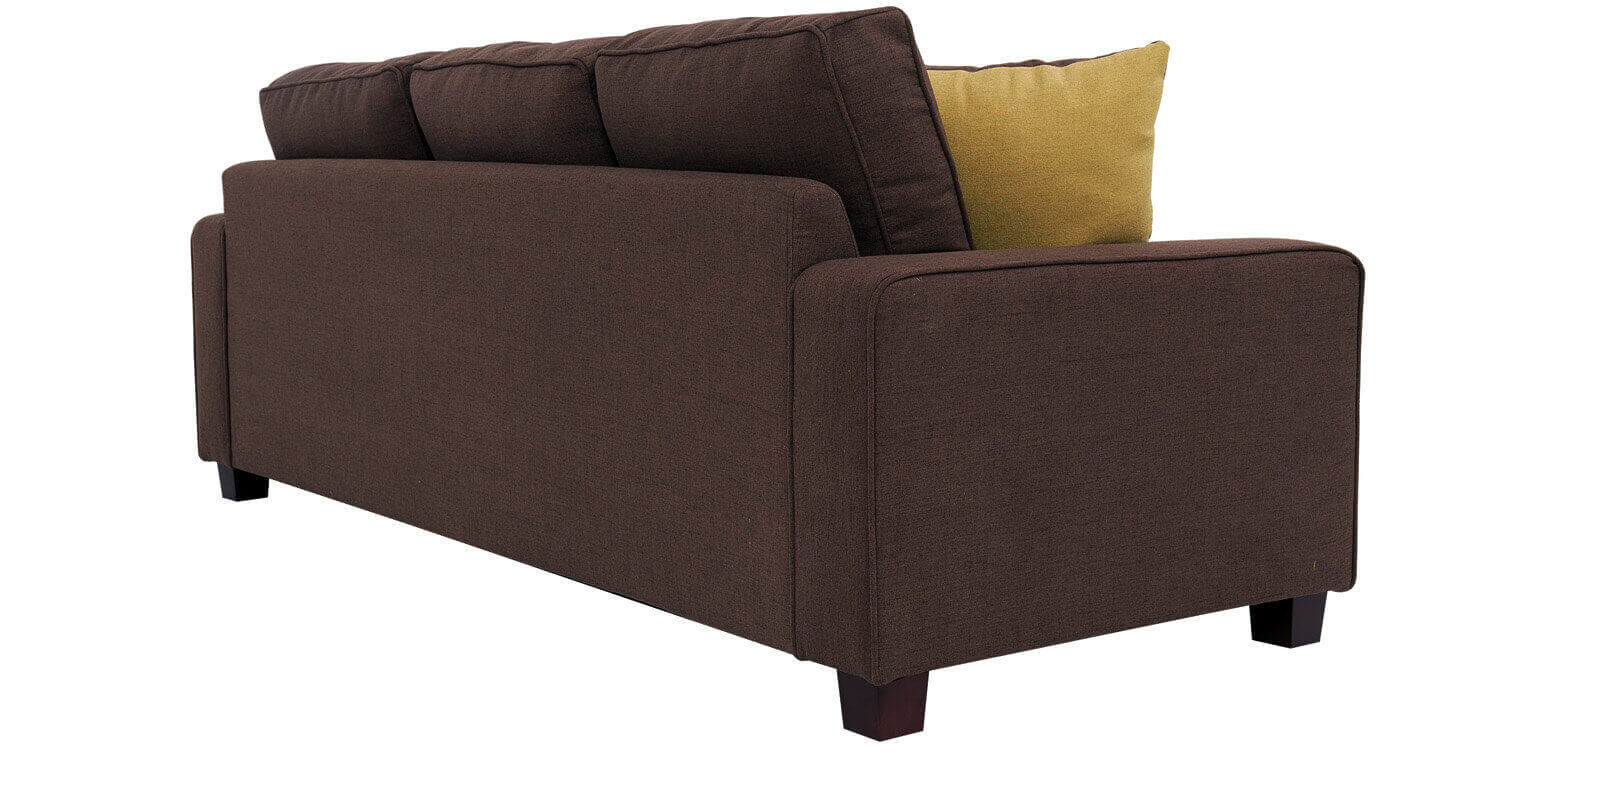Castilla Three Seater Sofa in Brown Colour by CasaCraft: (167, 16, 1370, 721)
